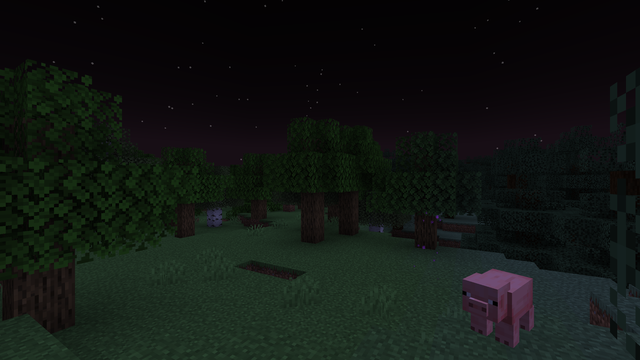cochons: (471, 266, 540, 352)
